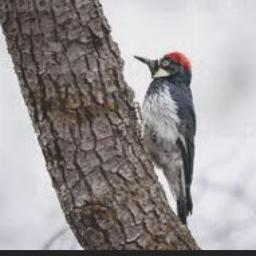Woodpecker: (133, 51, 196, 226)
